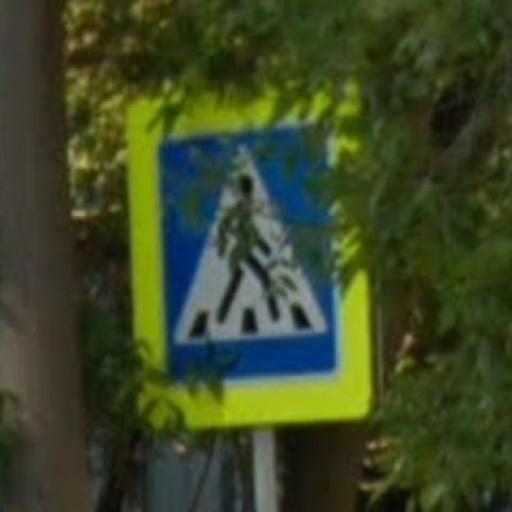traffic_sign: (122, 74, 387, 438)
